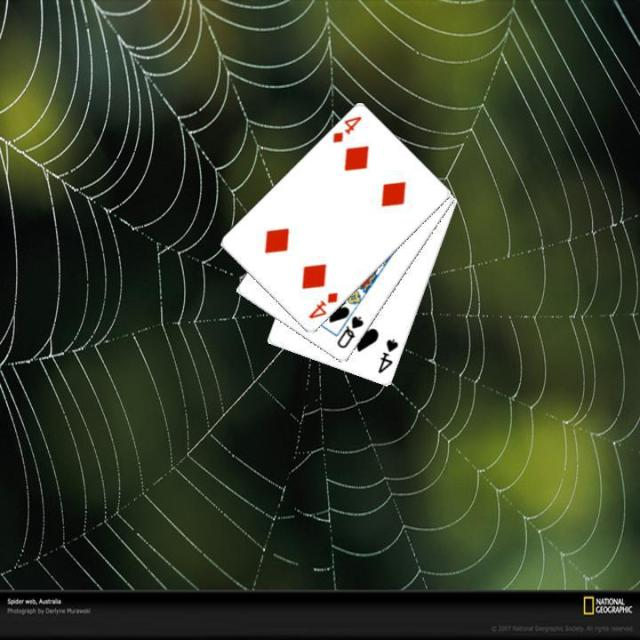4D: (328, 112, 364, 145), (305, 289, 339, 321)
4S: (374, 335, 400, 375)
QS: (332, 312, 366, 350)
